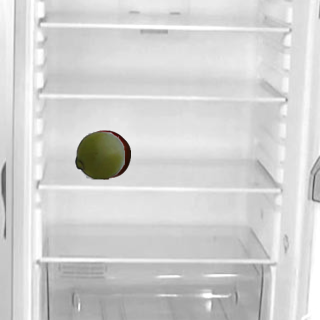Apple Braeburn: (80, 129, 130, 179)
Grape White 4: (74, 129, 124, 179)
